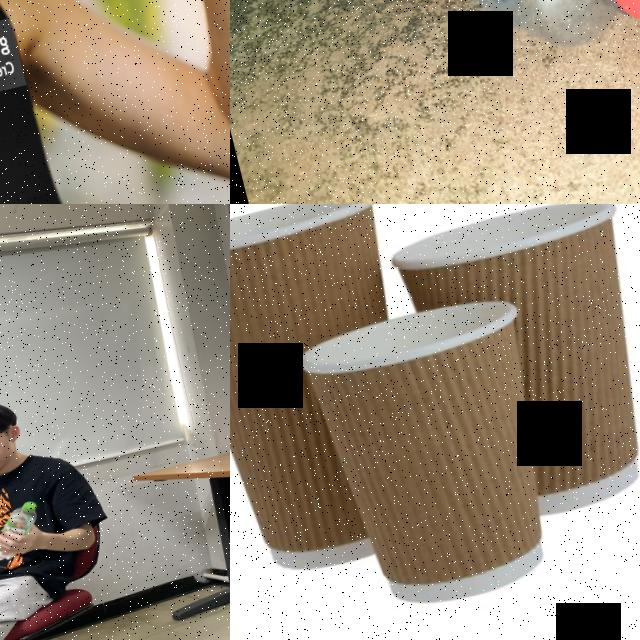bottle: (273, 0, 640, 108), (0, 499, 47, 563)
cup: (292, 288, 580, 627), (230, 204, 460, 590), (389, 204, 640, 537)
